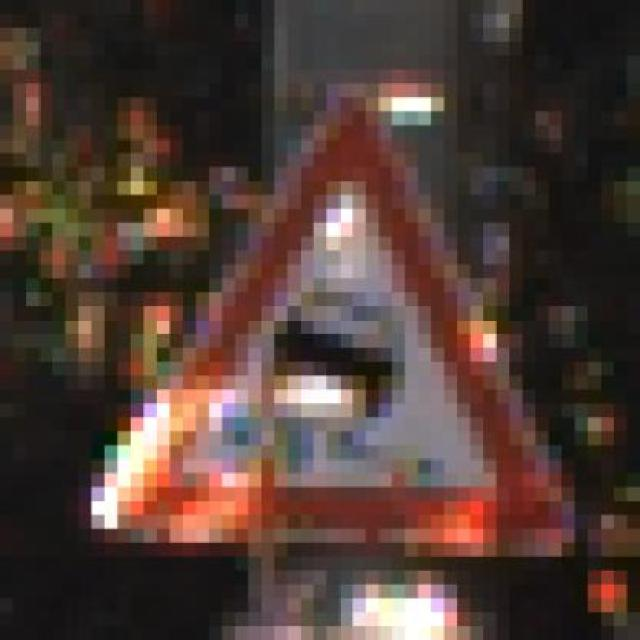Slippery Road Ahead: (78, 83, 588, 571)
